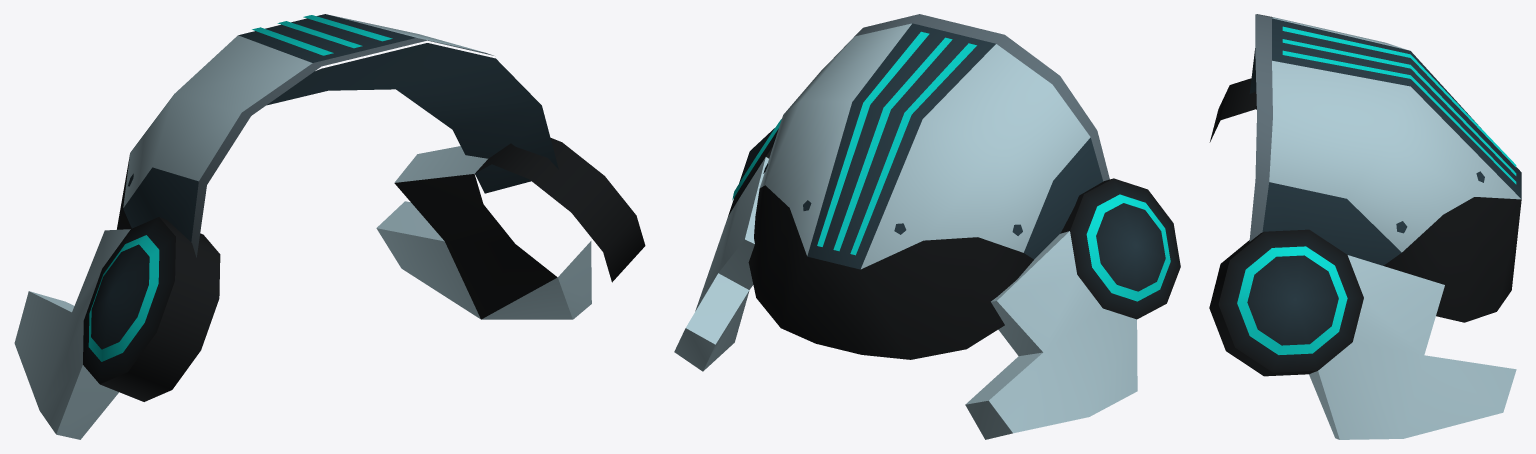
Rendered from hat_fusion.glb.
3 views of the same model, side by side, from view 1: azimuth 30°, elevation 25°; view 2: azimuth 150°, elevation 25°; view 3: azimuth 270°, elevation 25° (orthographic). The views are drawn at different scales.
Parts seen in each view (by area): view 1: hat_fusion; view 2: hat_fusion; view 3: hat_fusion.
Boxes of the visible parts, x1,y1,x2,y2 form: hat_fusion: (14, 14, 645, 439); hat_fusion: (674, 14, 1180, 439); hat_fusion: (1209, 14, 1521, 439).
Bounding box in the file's own units: 0.4919 × 0.3315 × 0.2973.
